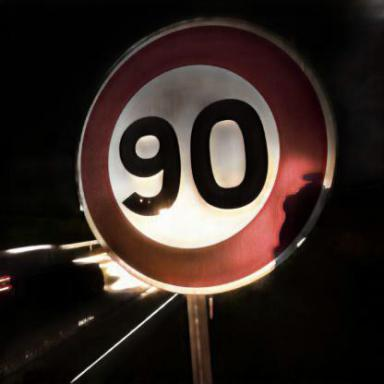Speed_limit_90: (81, 28, 307, 289)
